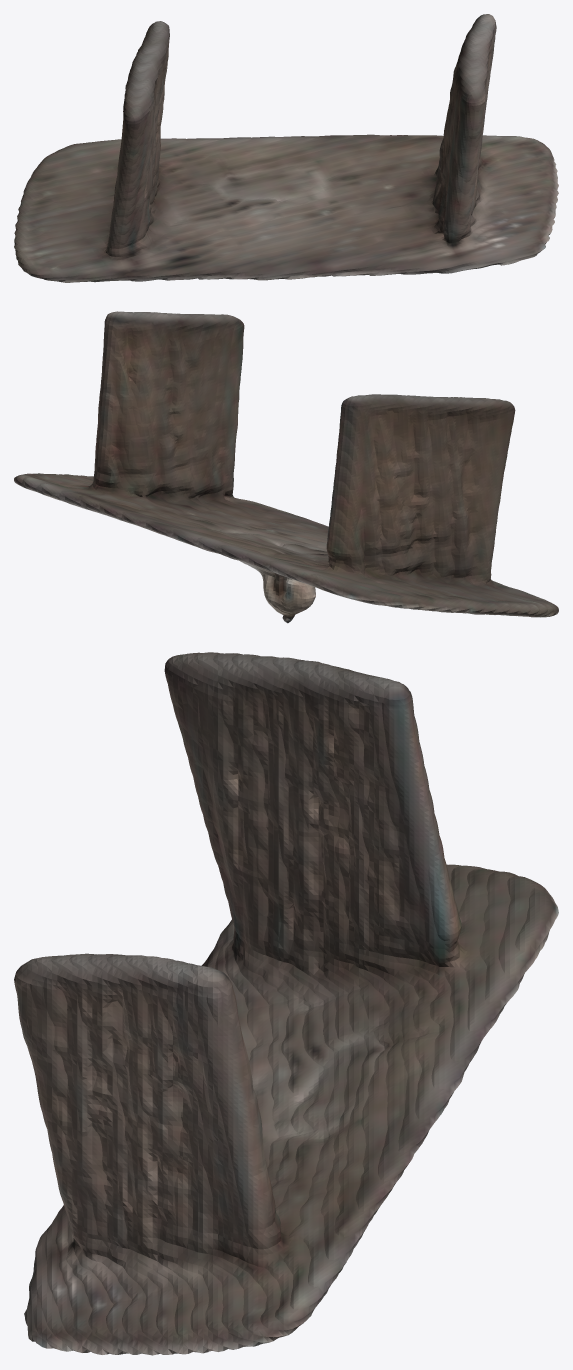
Rendered from oren-sintered-stone-6-seater-dinning-table.glb.
3 renders of one model, top to bottom at view 1: azimuth 30°, elevation 25°; view 2: azimuth 150°, elevation 25°; view 3: azimuth 270°, elevation 25°, orthographic. The views are drawn at different scales.
Visible parts, largest first — view 1: orient; view 2: orient; view 3: orient.
Boxes of the visible parts, box(x1,y1,x2,y2) form: orient: box(14, 14, 558, 282); orient: box(14, 311, 558, 623); orient: box(14, 652, 558, 1355).
Bounding box in the file's own units: 1.8 × 0.755 × 0.9.
